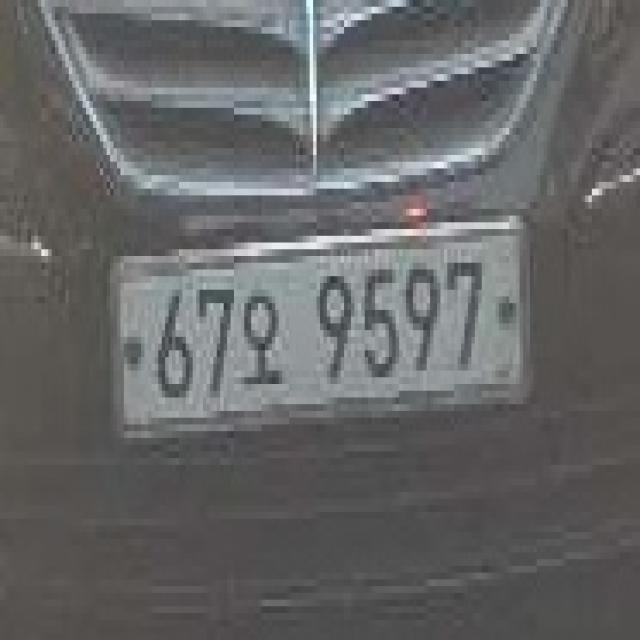plat: (107, 209, 534, 439)
